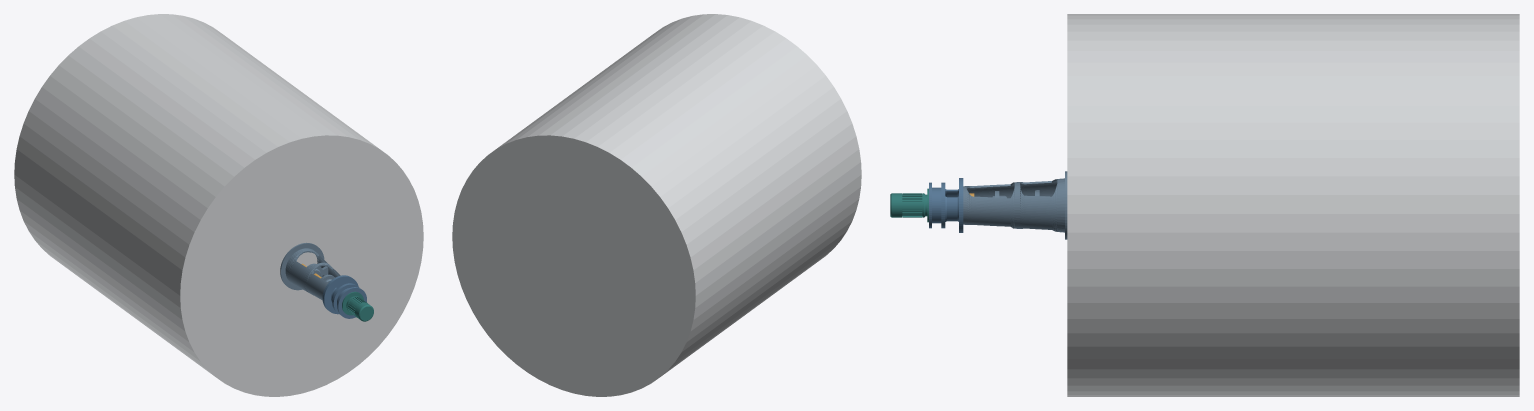
3 views of the same model, side by side, from view 1: azimuth 30°, elevation 25°; view 2: azimuth 150°, elevation 25°; view 3: azimuth 270°, elevation 25° (orthographic). The views are drawn at different scales.
Visible parts, largest first — view 1: Equipment, 06_Tapered_window_frame_with_bored_seats, 01_Motor, 06_Frame_foot, 02_Base_flange_top; view 2: Equipment; view 3: Equipment, 06_Tapered_window_frame_with_bored_seats, 01_Motor.
Part boxes in pixels (x1,y1,x2,y2): Equipment: [14, 14, 423, 396]; 06_Tapered_window_frame_with_bored_seats: [285, 248, 340, 300]; 01_Motor: [342, 291, 373, 321]; 06_Frame_foot: [280, 242, 324, 290]; 02_Base_flange_top: [323, 276, 358, 314]; Equipment: [452, 14, 861, 396]; Equipment: [1067, 14, 1519, 396]; 06_Tapered_window_frame_with_bored_seats: [963, 178, 1064, 232]; 01_Motor: [890, 188, 928, 222].
Size of the model in its own units: 5 by 5 by 8.21.
